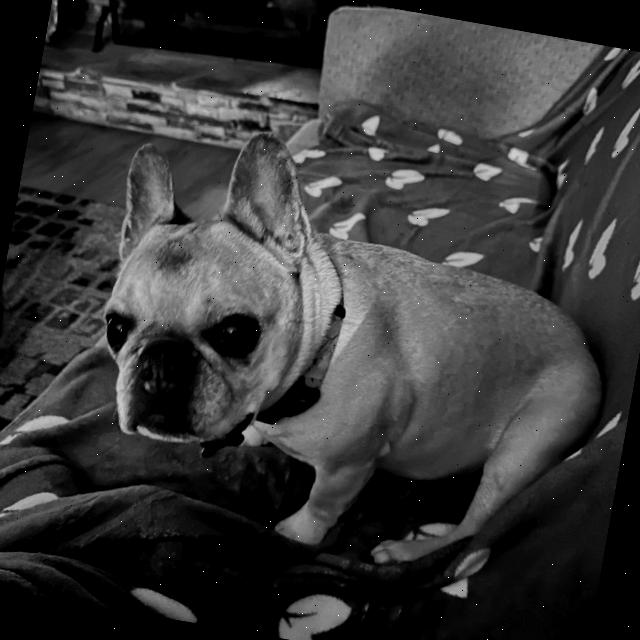french_bulldog_dog: (66, 98, 347, 477)
